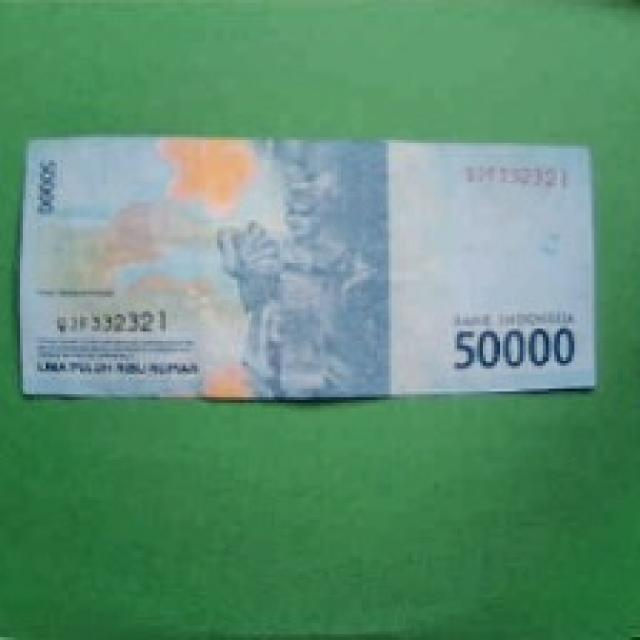dua ribu rupiah: (33, 90, 640, 448)
